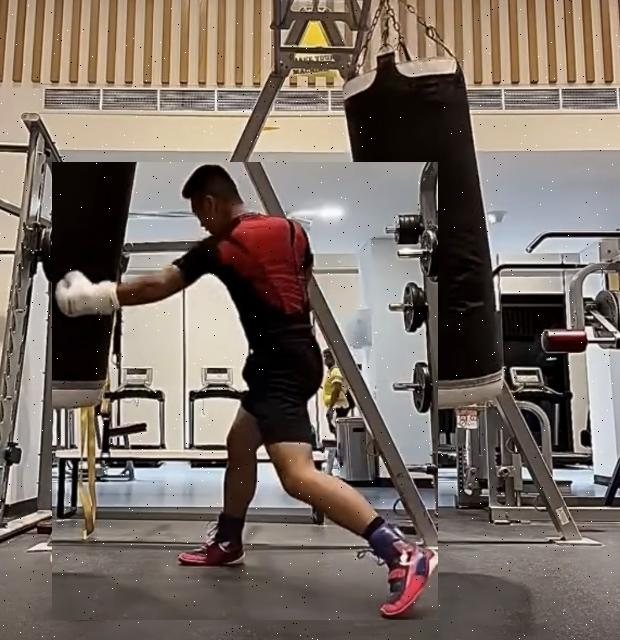punch: (52, 162, 438, 620)
